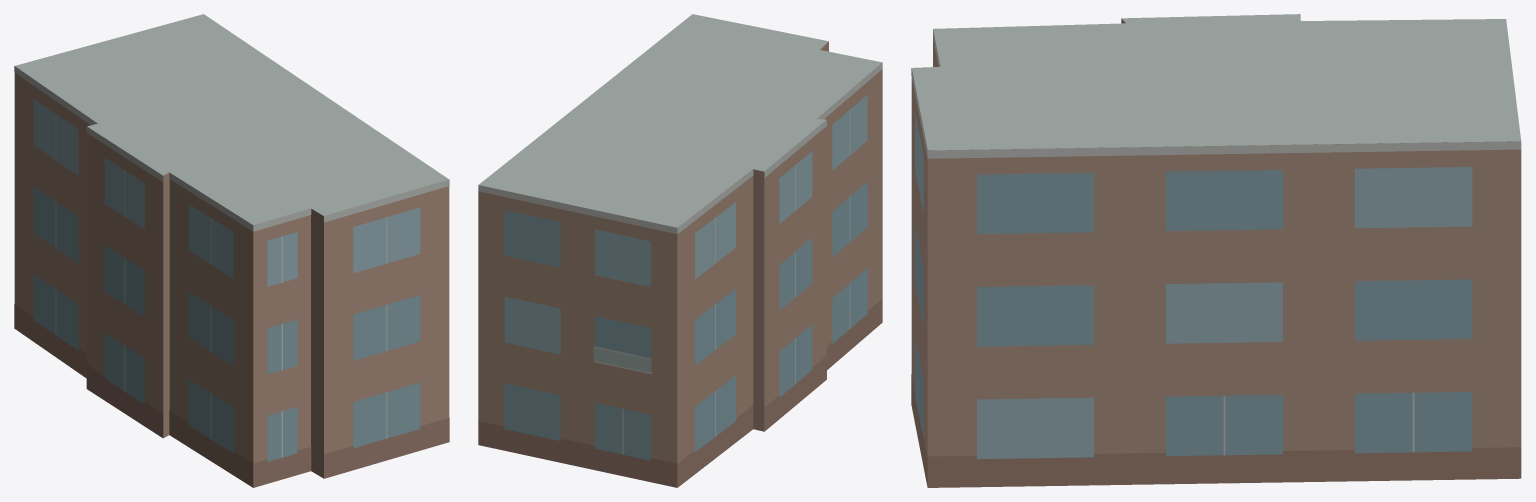
File: survey-upis-33037207.glb
The picture shows the model from 3 angles, left to right: view 1: azimuth 30°, elevation 25°; view 2: azimuth 150°, elevation 25°; view 3: azimuth 270°, elevation 25°; orthographic projection. The views are drawn at different scales.
Visible parts, largest first — view 1: survey-upis-33037207.tmp; view 2: survey-upis-33037207.tmp; view 3: survey-upis-33037207.tmp.
Part boxes in pixels (<box>): survey-upis-33037207.tmp: <box>14,14,449,487</box>; survey-upis-33037207.tmp: <box>478,14,882,487</box>; survey-upis-33037207.tmp: <box>911,14,1521,487</box>.
Bounding box in the file's own units: 8.59 × 9.9 × 16.22.
